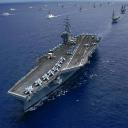Portanaves: (7, 15, 106, 116), (111, 10, 122, 24), (120, 3, 128, 15)
